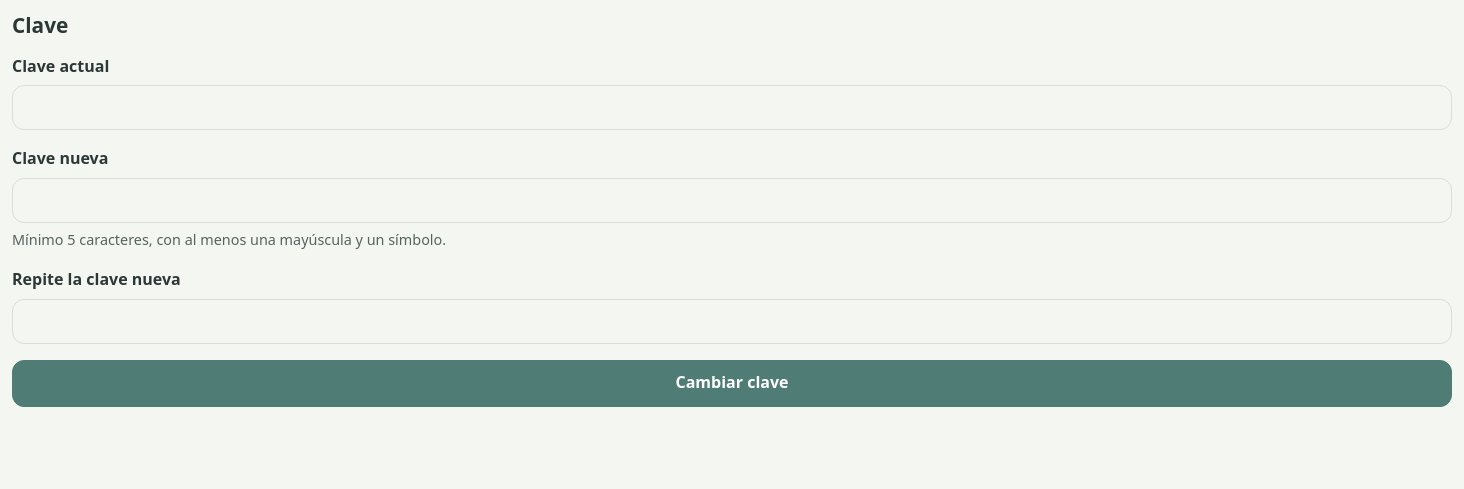
cambia la clave y limpia el formulario
This screenshot has width=1464, height=489.
Step 1. Type "Vieja!" into the password field labelled "Clave actual" → (732, 108), box [12,85,1452,130]
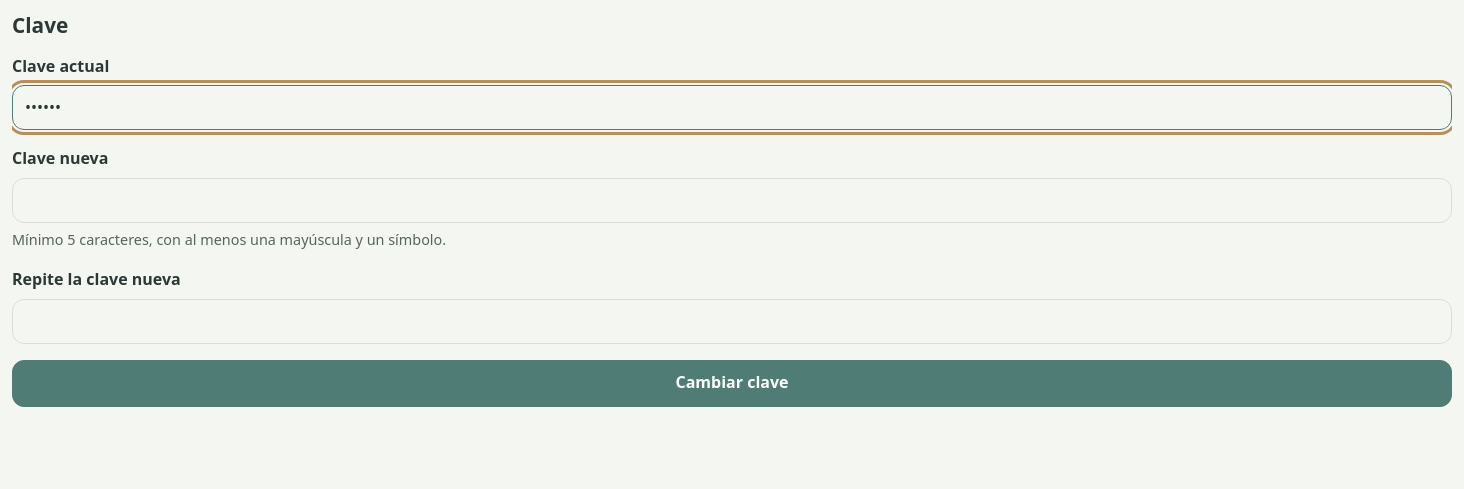
Step 2. Type "Nueva!" into the password field labelled "Clave nueva" → (732, 200), box [12,178,1452,223]
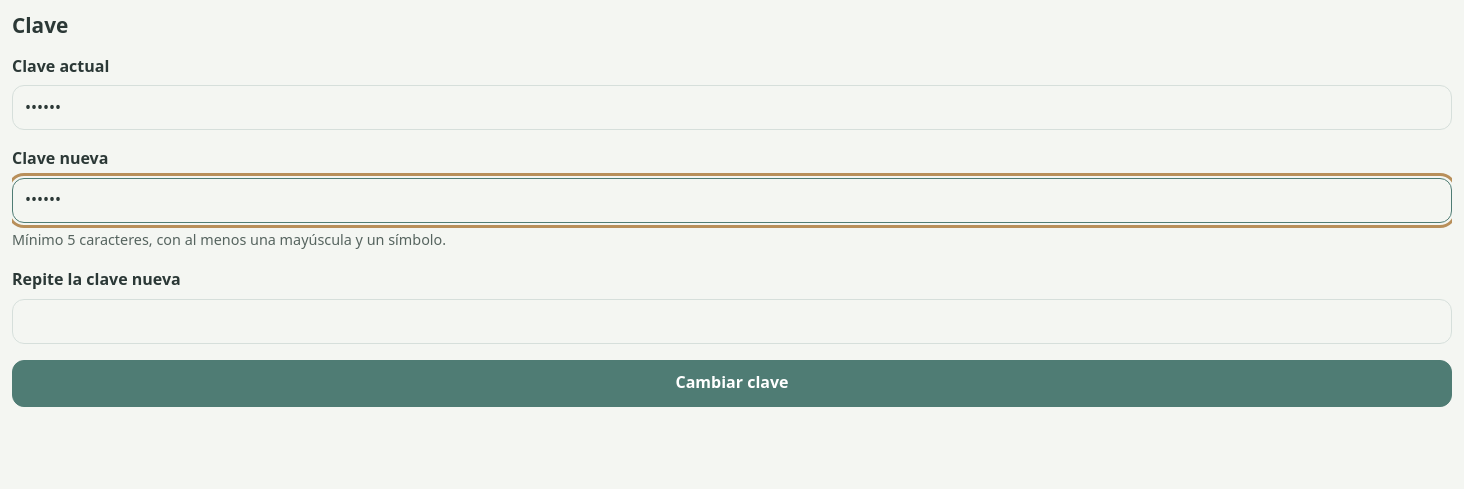
Step 3. Type "Nueva!" into the password field labelled "Repite la clave nueva" → (732, 321), box [12,299,1452,344]
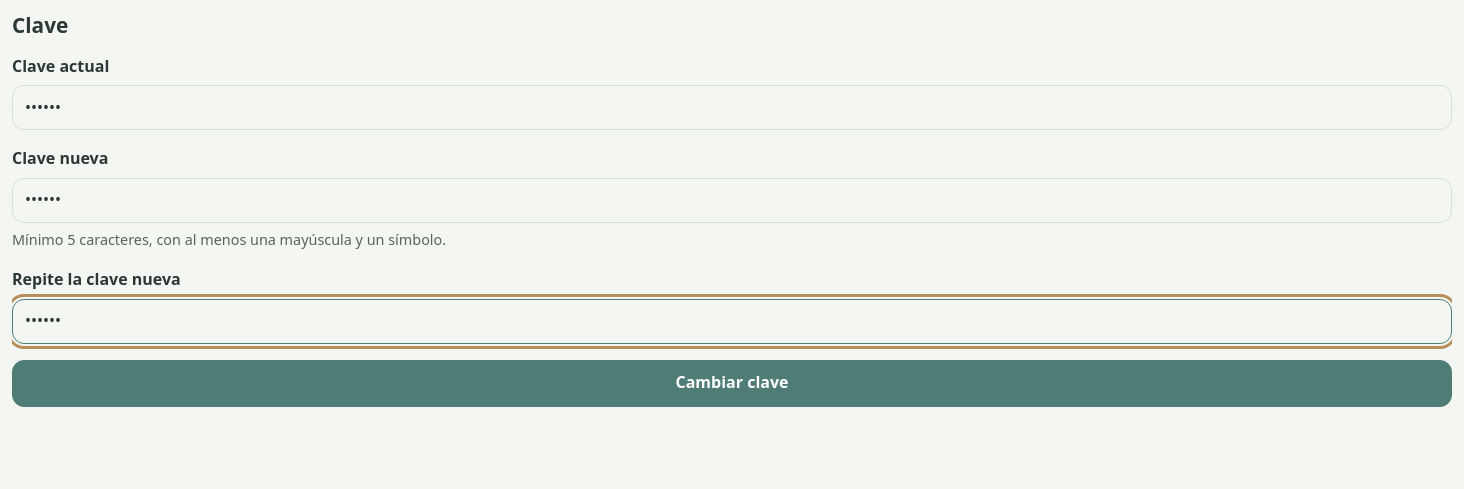
Step 4. Click the button "Cambiar clave" → (732, 383), box [12,360,1452,407]
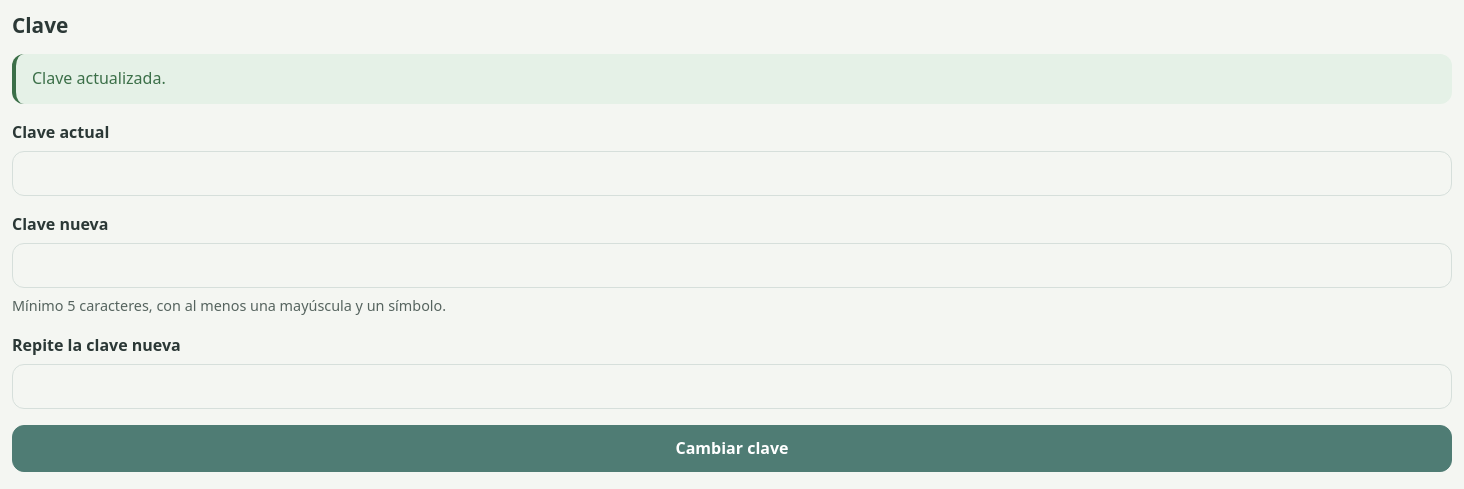
Expected: the text "Clave actualizada." is shown, [12,54,1452,104]
Expected: the password field labelled "Clave actual" is empty, [12,151,1452,196]
